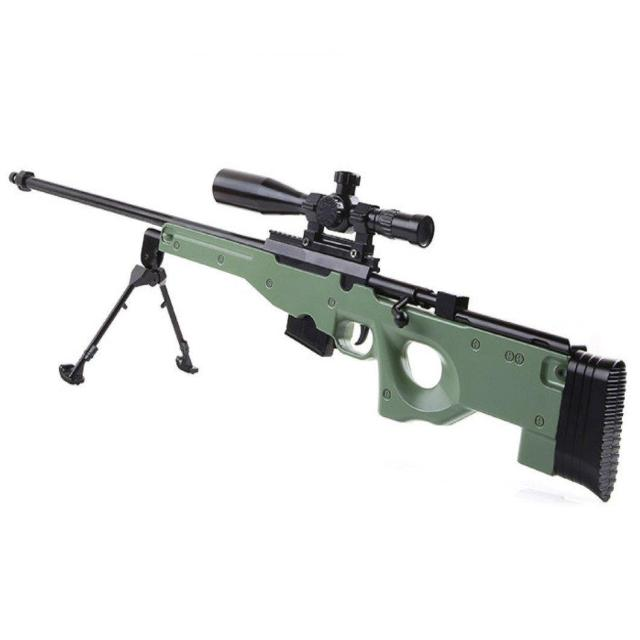weapon: (7, 155, 628, 505)
